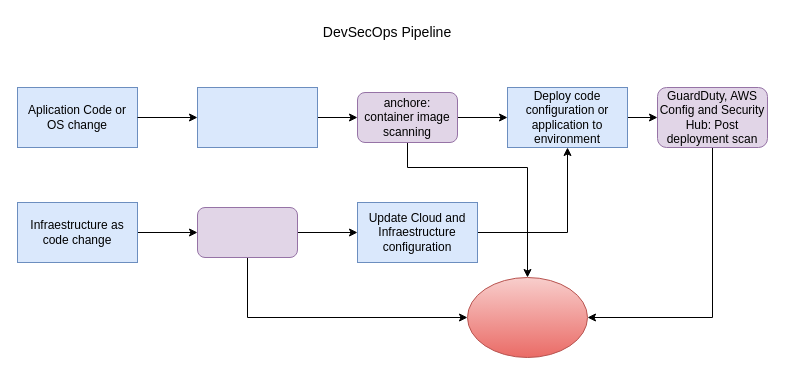
The diagram is 785 pixels wide and 375 high, and some of its shapes have lost their labels. Here are the shapes that lost their labels. From the top down, the centre of each, then its label:
pixel 257 117: Build Application container or OS image
pixel 247 232: Regula: IaC Scanning
pixel 527 317: Vulnerability Management
